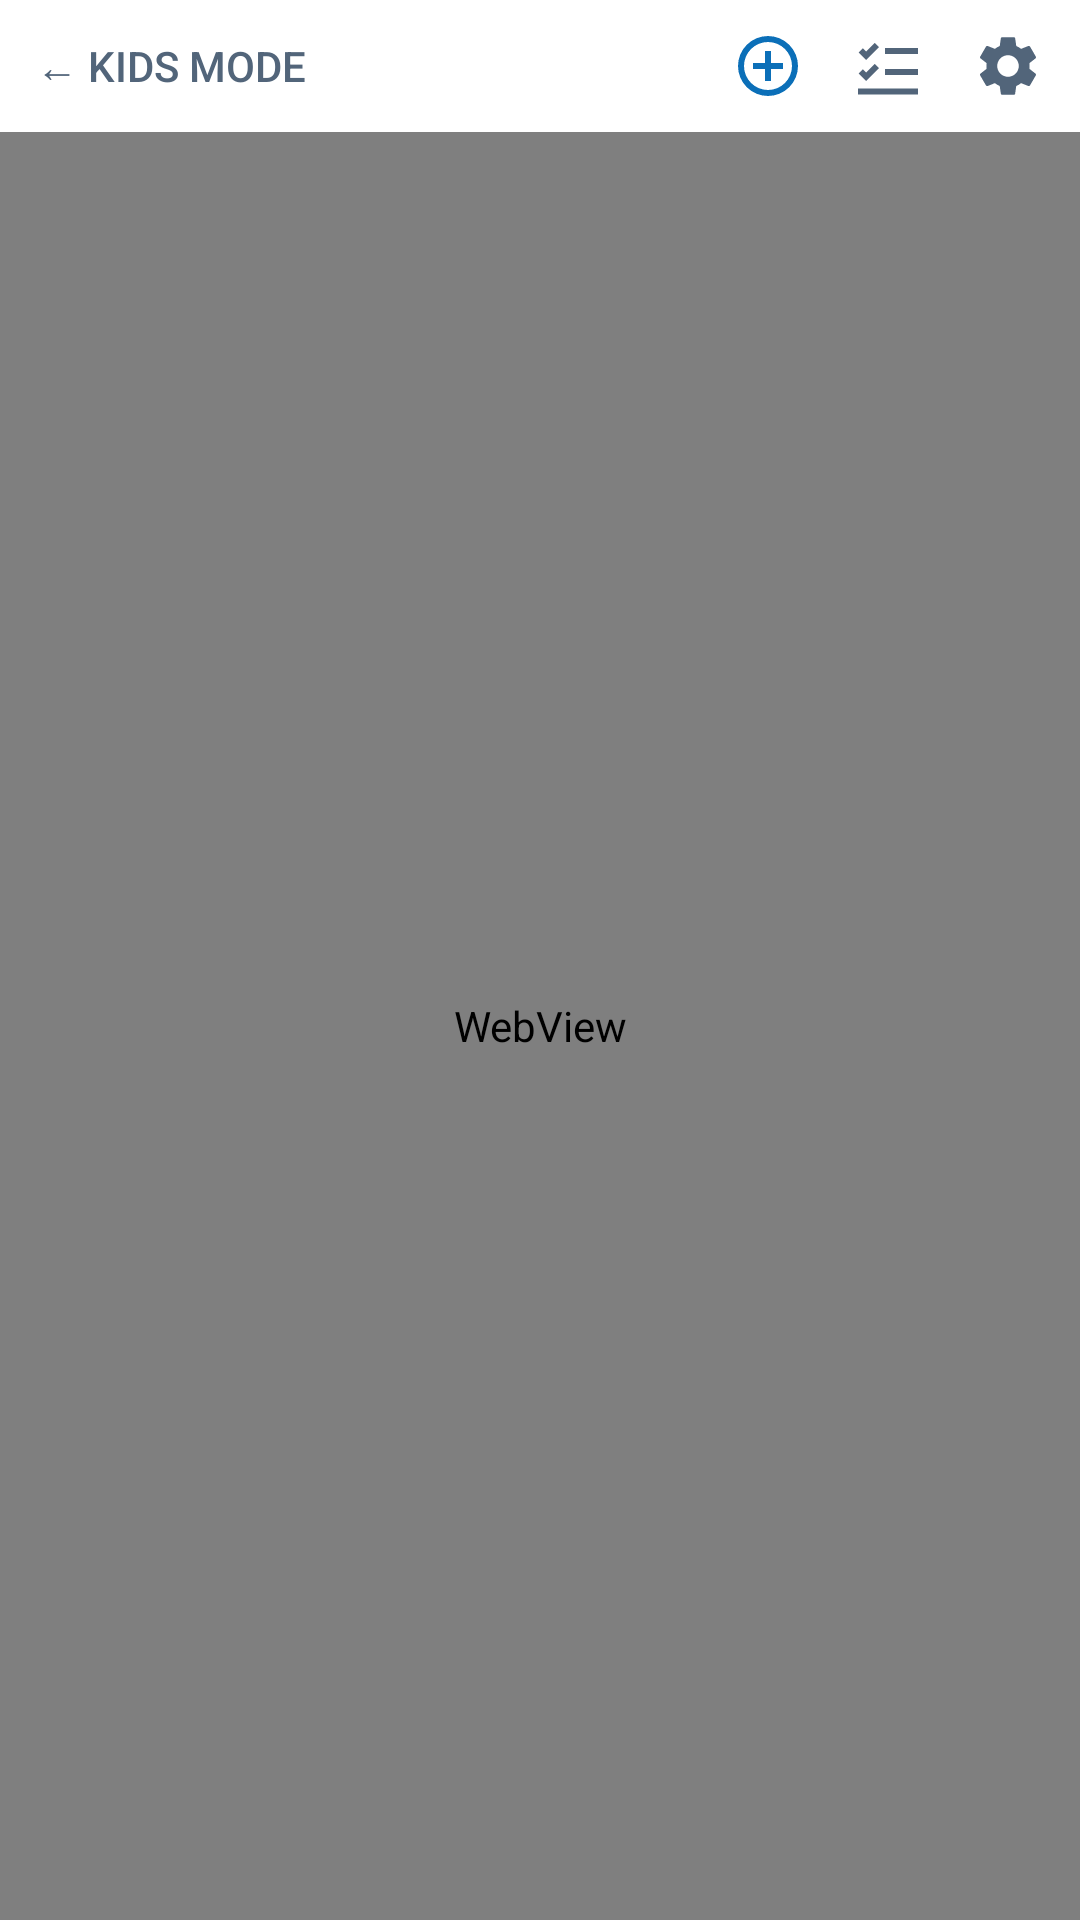

Icon click points for this 1080 x 1920 phone screenshot, format (x=x, y=y):
Approve this channel: (x=768, y=66)
Approved channels: (x=888, y=69)
Settings: (x=1008, y=66)
